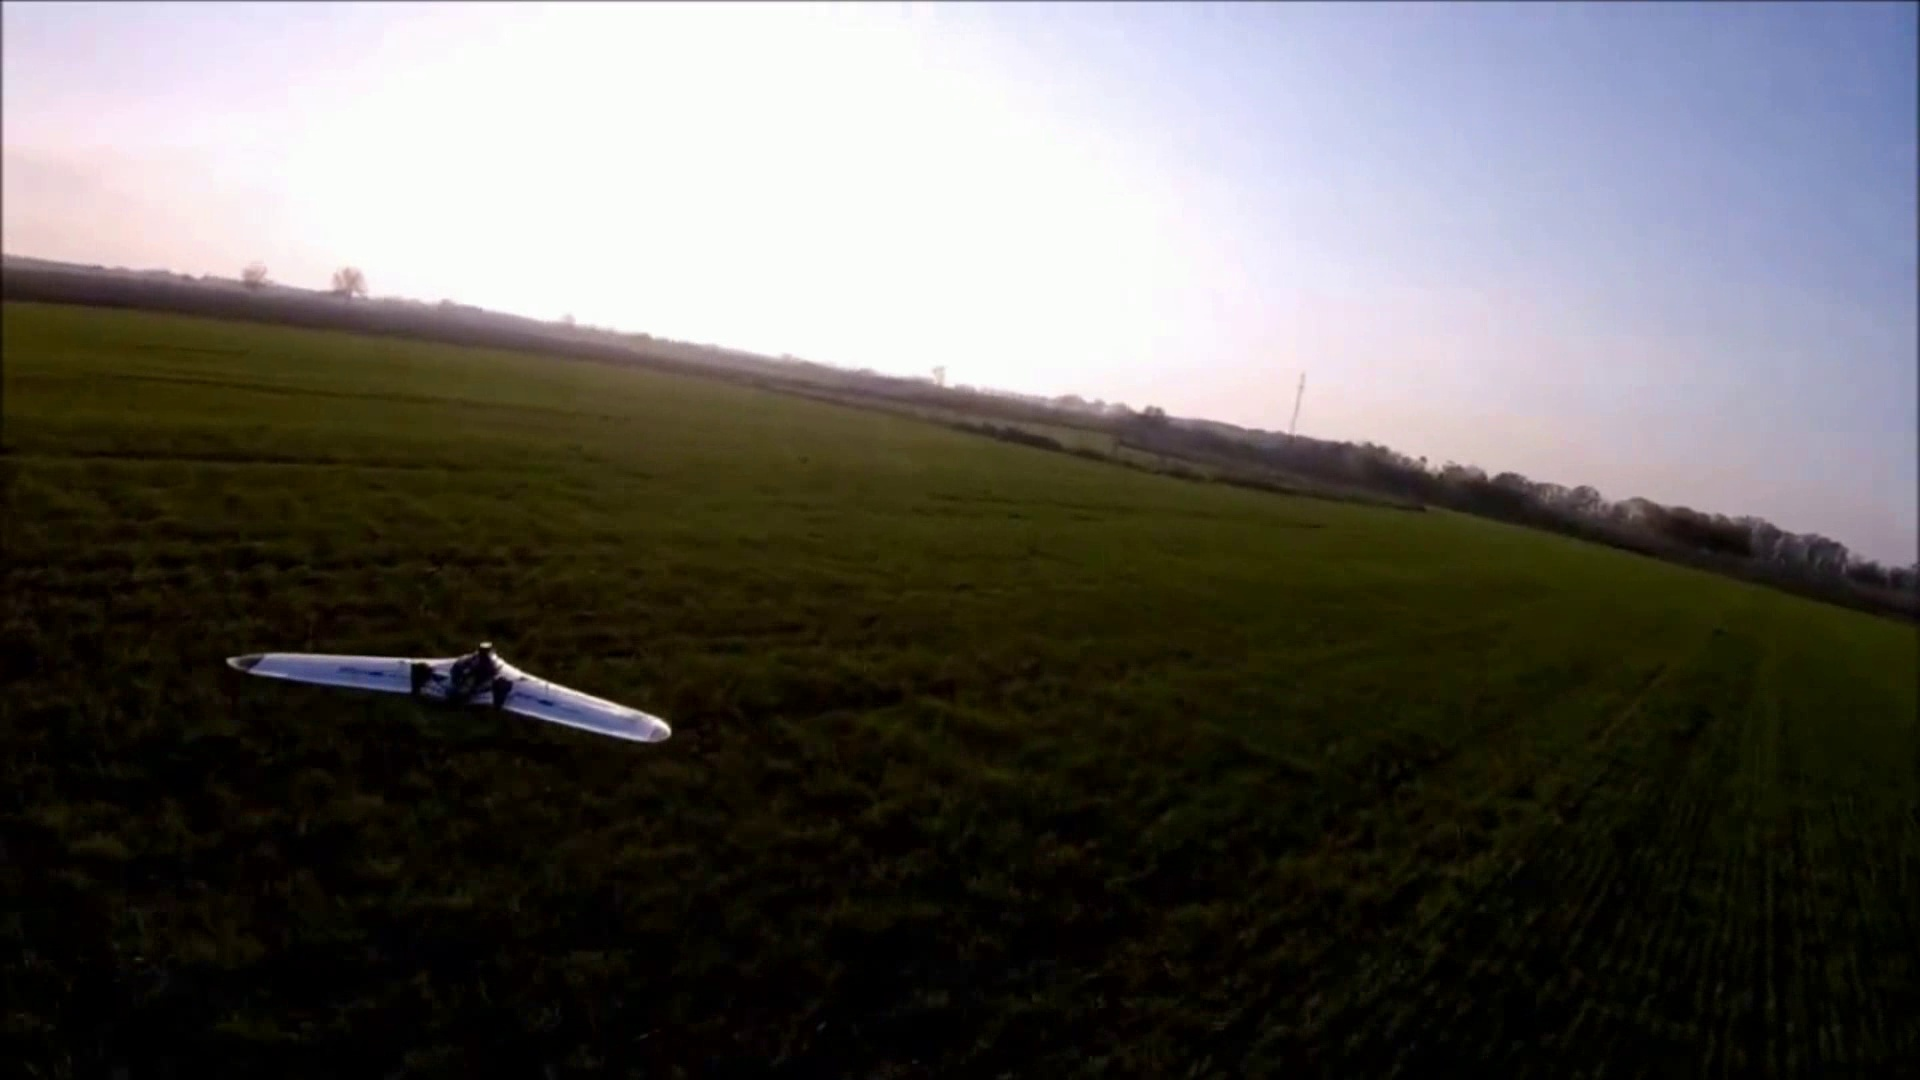airplane: (222, 645, 673, 748)
